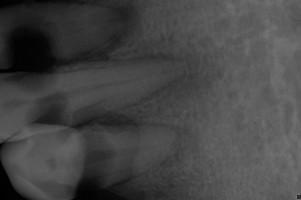Dental Caries: (64, 1, 141, 65)
Furcation Involvement: (133, 33, 222, 103), (153, 123, 200, 167)
